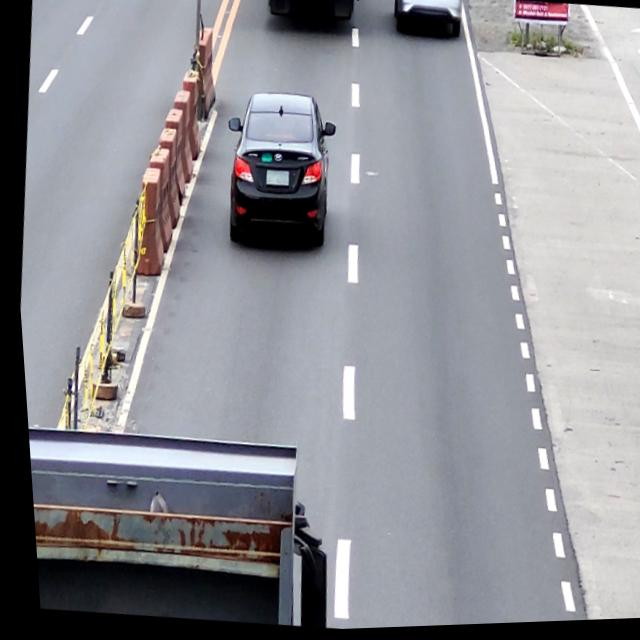Car: (211, 87, 342, 256)
License-Plate: (261, 170, 288, 188)
Truck: (22, 415, 337, 638), (261, 0, 361, 27)
